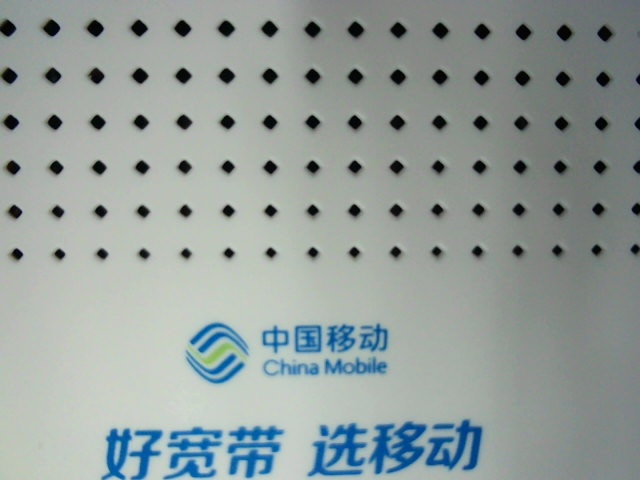AA_ChinaMobile: (85, 313, 492, 477)
